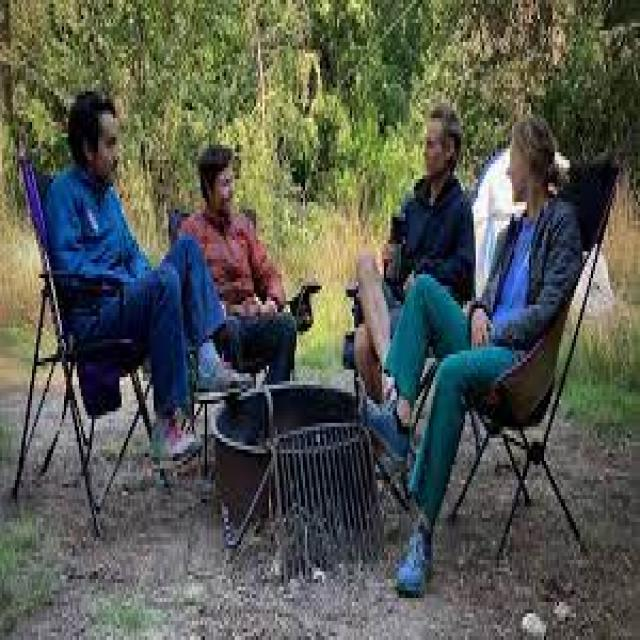chair: (378, 135, 633, 591), (4, 134, 181, 585), (152, 168, 310, 479), (328, 163, 475, 487)
